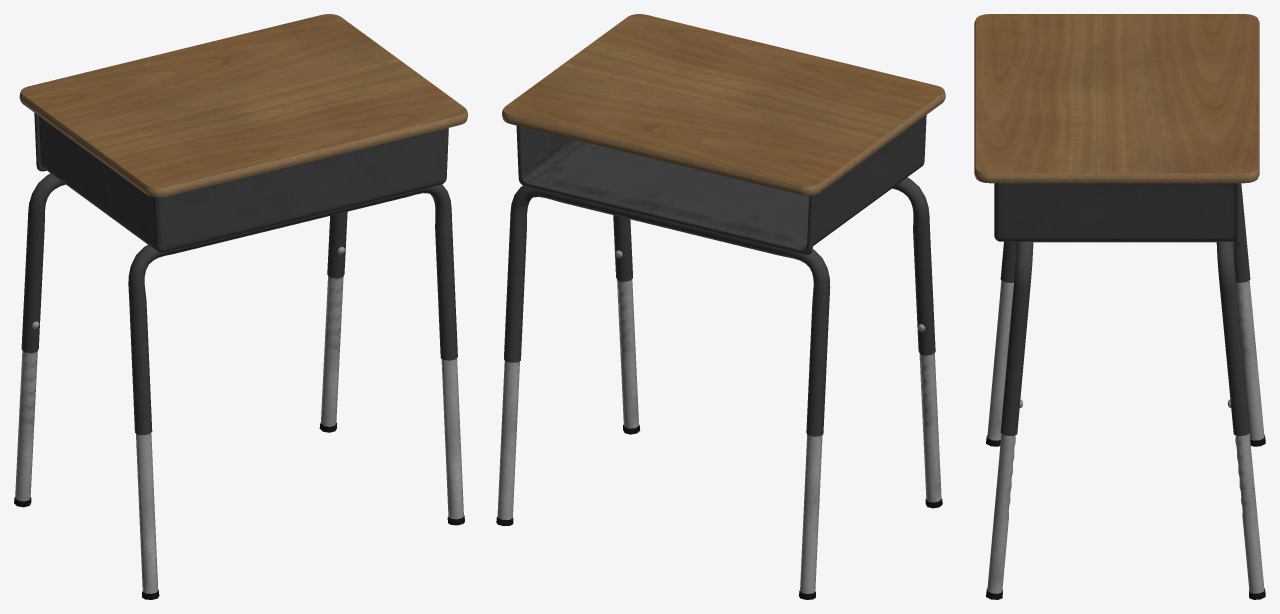
Rendered from SchoolDesk_01.glb.
3 renders of one model, left to right at view 1: azimuth 30°, elevation 25°; view 2: azimuth 150°, elevation 25°; view 3: azimuth 270°, elevation 25°, orthographic. The views are drawn at different scales.
Parts seen in each view (by area): view 1: SchoolDesk_01; view 2: SchoolDesk_01; view 3: SchoolDesk_01.
Part boxes in pixels (<box>): SchoolDesk_01: <box>14,14,467,599</box>; SchoolDesk_01: <box>496,14,945,599</box>; SchoolDesk_01: <box>974,14,1265,599</box>.
Bounding box in the file's own units: 0.7118 × 0.8826 × 0.546.
Materials: 1 (1 with a texture image).
